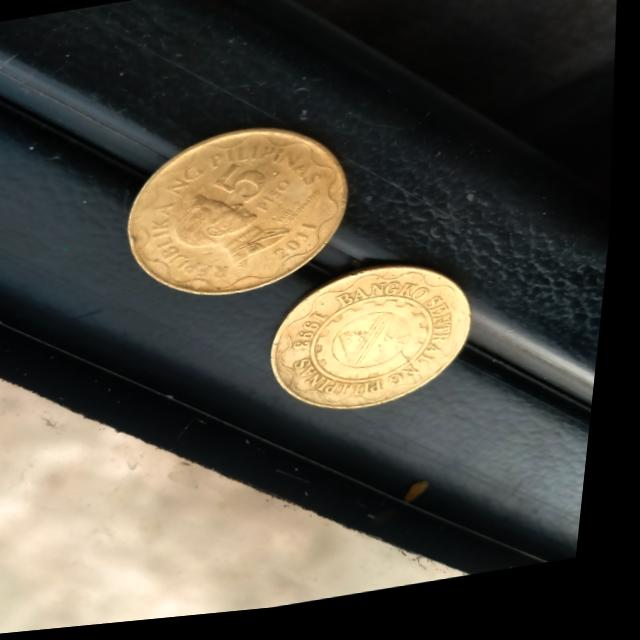5_Old_Back: (273, 261, 486, 434)
5_Old_Front: (211, 153, 311, 228)
